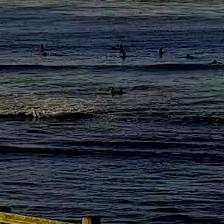surfer: (112, 88, 123, 95), (208, 60, 223, 65), (41, 44, 48, 50), (122, 50, 127, 57), (159, 47, 163, 54), (42, 52, 49, 56), (119, 44, 123, 49), (186, 54, 190, 58), (222, 39, 223, 49)
